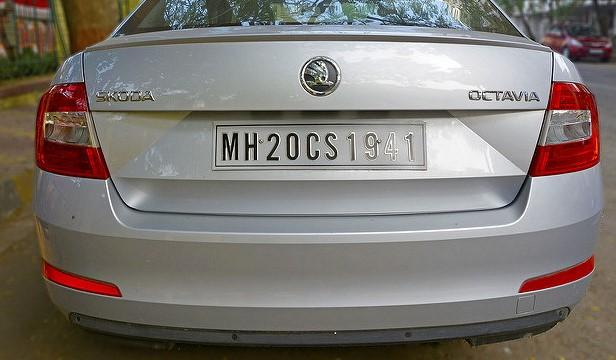License-Plate: (209, 116, 432, 178)
